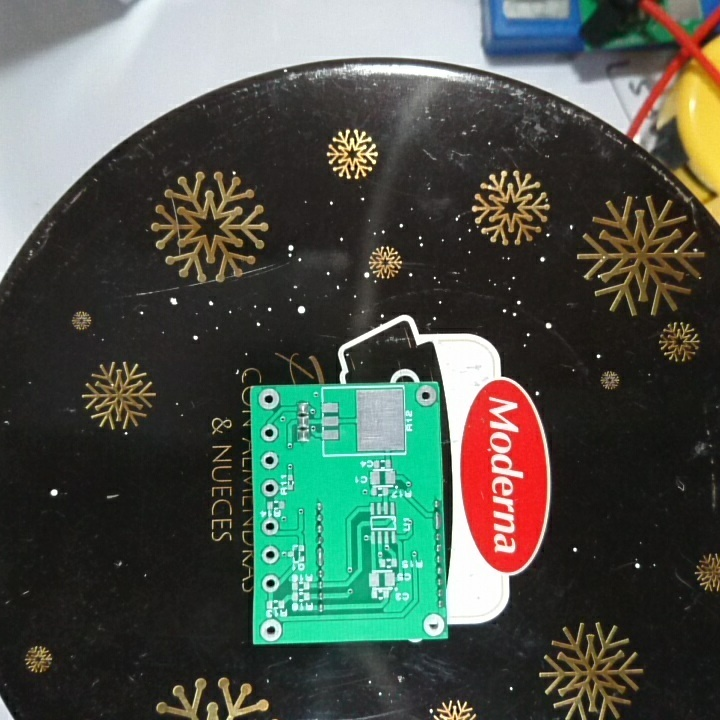F: (257, 616, 286, 644), (413, 382, 438, 411), (421, 612, 447, 638), (256, 386, 281, 413), (259, 543, 281, 568), (259, 449, 281, 473), (260, 517, 281, 540), (260, 572, 281, 595), (259, 423, 280, 445), (260, 479, 279, 499)
P: (430, 508, 442, 532), (314, 545, 325, 567)
